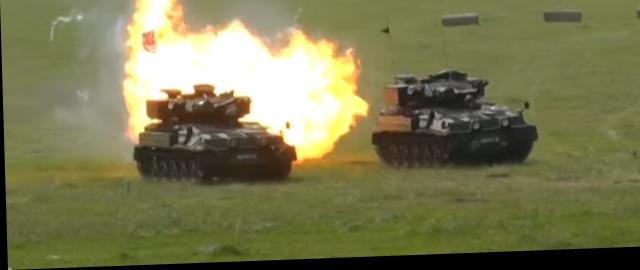tank: (134, 83, 293, 180), (378, 72, 537, 168)
